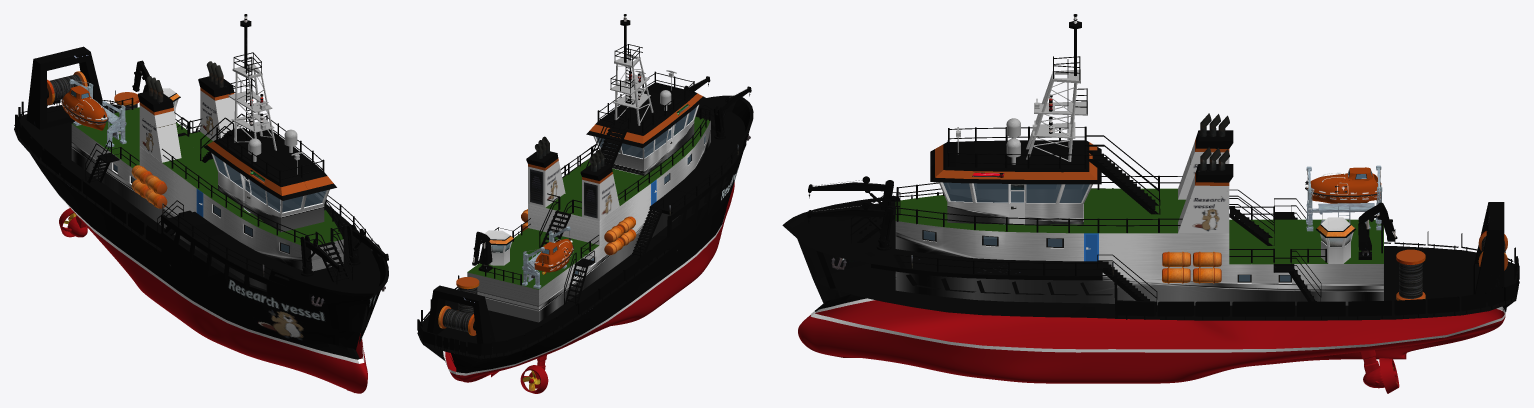
The model's file is research_vessel.glb.
3 views of the same model, side by side, from view 1: azimuth 30°, elevation 25°; view 2: azimuth 150°, elevation 25°; view 3: azimuth 270°, elevation 25° (orthographic). The views are drawn at different scales.
Parts seen in each view (by area): view 1: Object_26, Object_15, Object_17, Object_47, Object_30, Object_25, Object_20, Object_29, Object_41, Object_37, Object_39, Object_34 (+7 smaller); view 2: Object_26, Object_15, Object_17, Object_30, Object_47, Object_25, Object_20, Object_29, Object_41, Object_39, Object_37, Object_19 (+10 smaller); view 3: Object_47, Object_26, Object_17, Object_30, Object_19, Object_25, Object_39, Object_37, Object_15, Object_29, Object_20, Object_41 (+8 smaller).
Boxes of the visible parts, <box> form: Object_26: <box>14,46,387,330</box>; Object_15: <box>14,101,373,359</box>; Object_17: <box>71,124,343,290</box>; Object_47: <box>69,207,367,393</box>; Object_30: <box>72,107,343,245</box>; Object_25: <box>47,14,376,274</box>; Object_20: <box>139,90,239,162</box>; Object_29: <box>228,64,302,174</box>; Object_41: <box>47,71,333,198</box>; Object_37: <box>114,101,326,252</box>; Object_39: <box>60,100,364,363</box>; Object_34: <box>61,85,107,130</box>; Object_26: <box>418,82,750,359</box>; Object_15: <box>449,97,753,373</box>; Object_17: <box>467,104,710,322</box>; Object_30: <box>467,116,710,289</box>; Object_47: <box>445,182,734,382</box>; Object_25: <box>436,14,742,330</box>; Object_20: <box>528,160,619,220</box>; Object_29: <box>610,54,676,125</box>; Object_41: <box>438,93,702,335</box>; Object_39: <box>443,105,724,375</box>; Object_37: <box>482,107,705,274</box>; Object_19: <box>417,95,735,366</box>; Object_47: <box>798,300,1505,383</box>; Object_26: <box>800,130,1515,320</box>; Object_17: <box>895,182,1383,305</box>; Object_30: <box>895,188,1383,264</box>; Object_19: <box>782,225,1519,318</box>; Object_25: <box>896,14,1394,275</box>; Object_39: <box>810,182,1505,352</box>; Object_37: <box>923,182,1352,281</box>; Object_15: <box>783,195,1519,311</box>; Object_29: <box>956,69,1087,164</box>; Object_20: <box>1178,141,1229,233</box>; Object_41: <box>935,138,1507,283</box>.
Size of the model in its own units: 12.15 by 26.89 by 50.2.
Materials: 41 (39 with a texture image).
